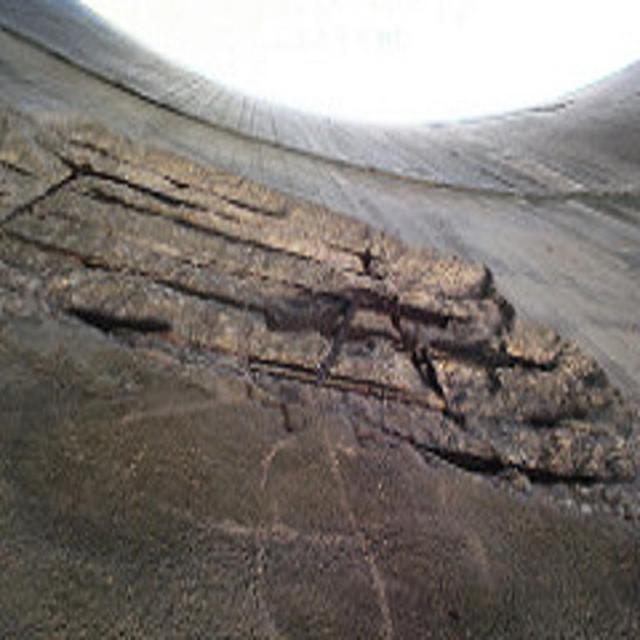Rebar: (1, 103, 640, 524)
